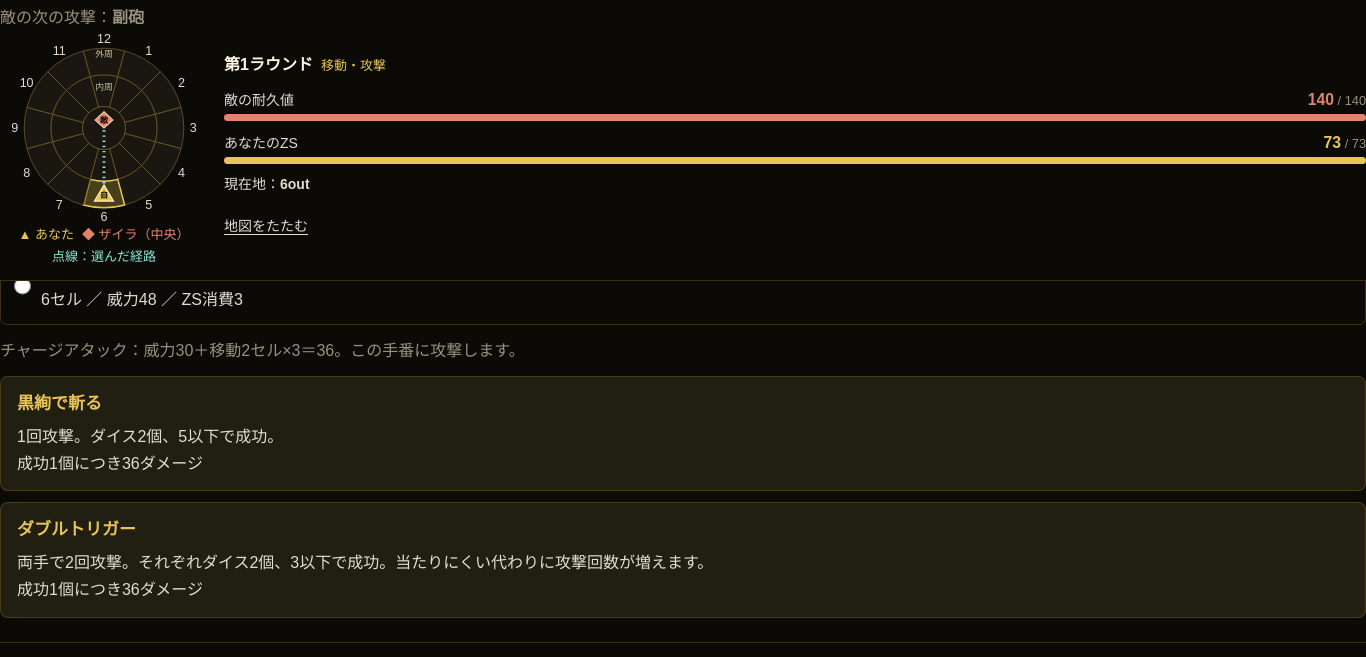
it: 戦闘画面 › 出目1は追加で振り、追加の成功と威力ボーナスも結果に含める
This screenshot has width=1366, height=657.
(page scrolled)
Click the button "黒絢で斬る 1回攻撃。ダイス2個、5以下で成功。 成功1個につき36ダメージ" at [683, 434], box [0,376,1365,491]
(page scrolled)
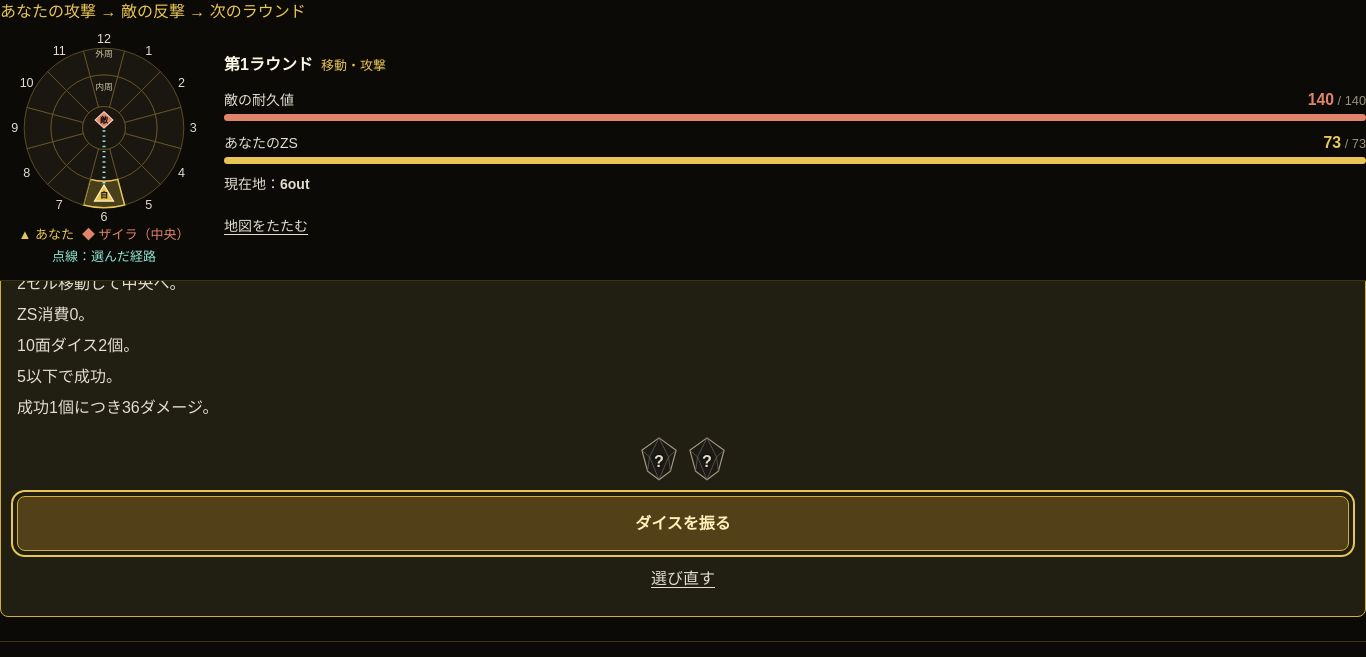
Click the button "ダイスを振る" at [683, 523], box [17,496,1349,551]
(page scrolled)
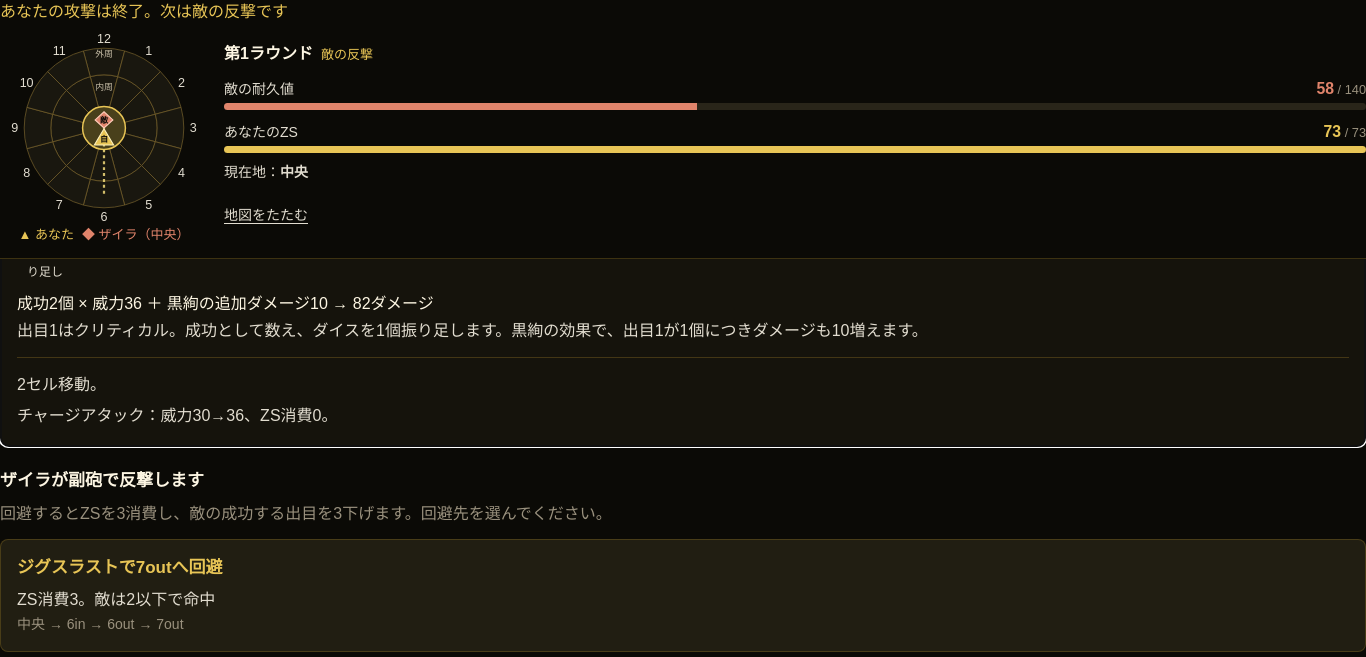
Expected: the text "ザイラに82ダメージ" is shown, [17,125,198,147]
Expected: the number of list items is 3, [17,196,73,282]; [89,196,129,258]; [153,196,193,258]
Expected: the list item with aria-label "出目1、クリティカル" is shown, [17,196,73,282]
